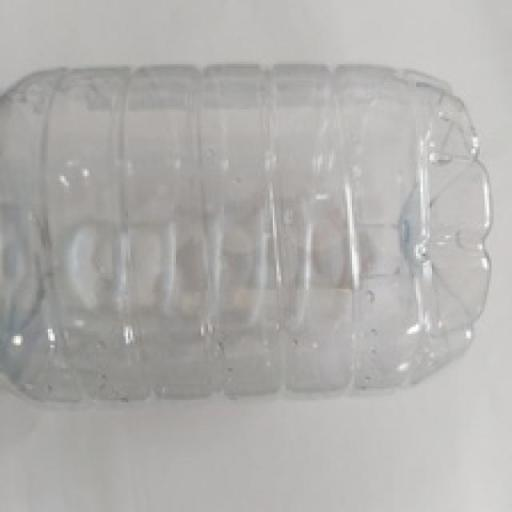plastic: (0, 61, 495, 405)
